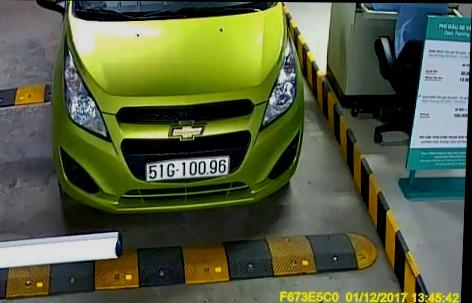License_Plate: (141, 152, 229, 183)
